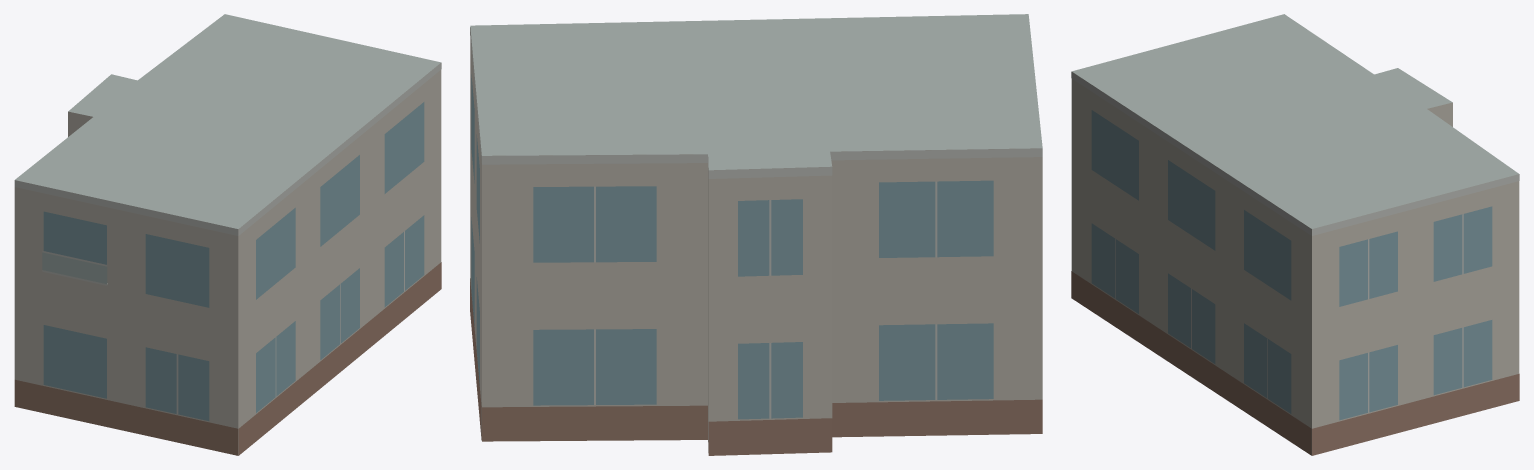
Rendered from survey-upis-32621820.glb.
3 renders of one model, left to right at view 1: azimuth 30°, elevation 25°; view 2: azimuth 150°, elevation 25°; view 3: azimuth 270°, elevation 25°, orthographic. The views are drawn at different scales.
Parts seen in each view (by area): view 1: survey-upis-32621820.tmp; view 2: survey-upis-32621820.tmp; view 3: survey-upis-32621820.tmp.
Boxes of the visible parts, box(x1,y1,x2,y2) form: survey-upis-32621820.tmp: box(14, 14, 441, 455); survey-upis-32621820.tmp: box(470, 14, 1042, 455); survey-upis-32621820.tmp: box(1071, 14, 1519, 455).
Size of the model in its own units: 16.18 by 7.95 by 14.24.
